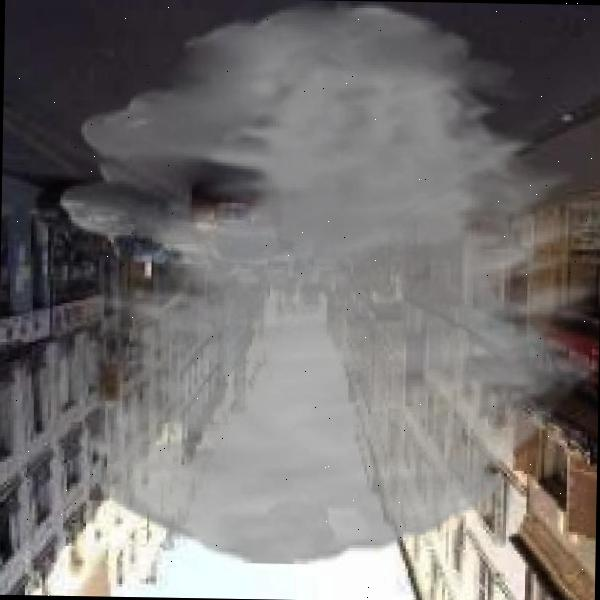smoke: (54, 0, 600, 569)
